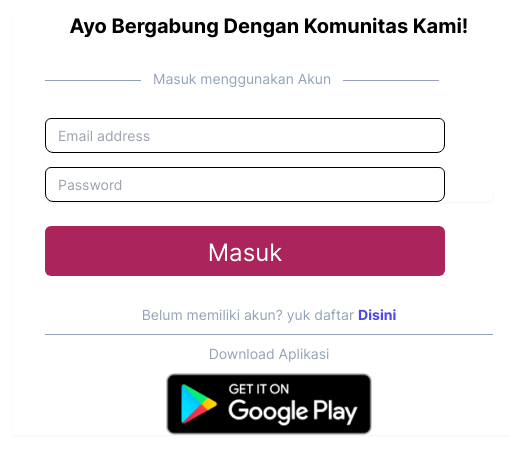
Test: Login panti › Menampilkan pesan berhasil login jika email dan password valid
In the field labelled "Email address": (245, 136) [45, 118, 445, 153], type "panti@gmail.com"
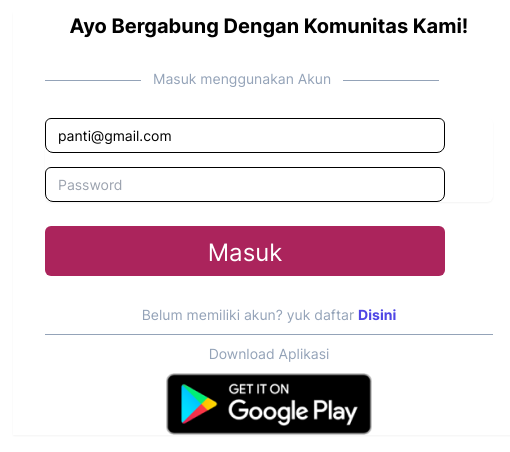
In the password field labelled "Password": (245, 184) [45, 167, 445, 202], type "supersecure"
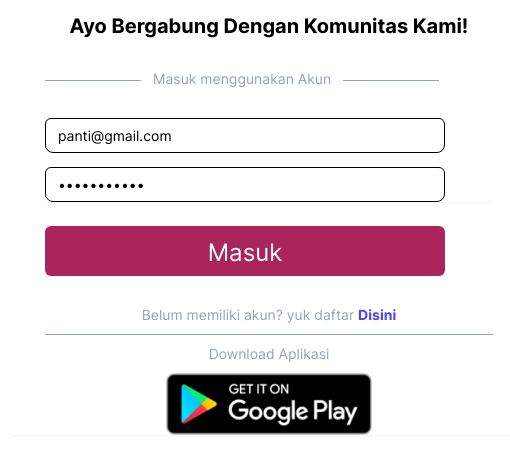
Click the button "Masuk": (245, 251) [45, 226, 445, 276]
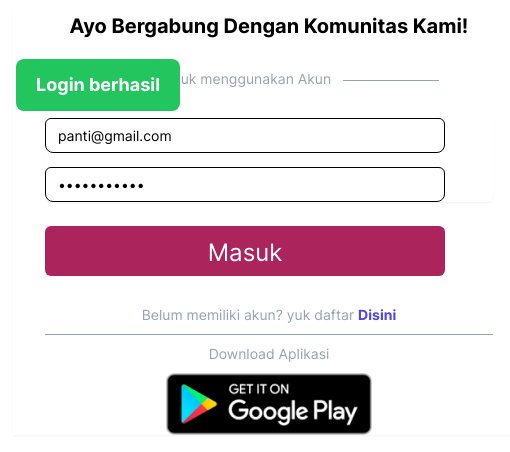
Check: the text "Login berhasil" is shown, box [36, 74, 160, 95]
